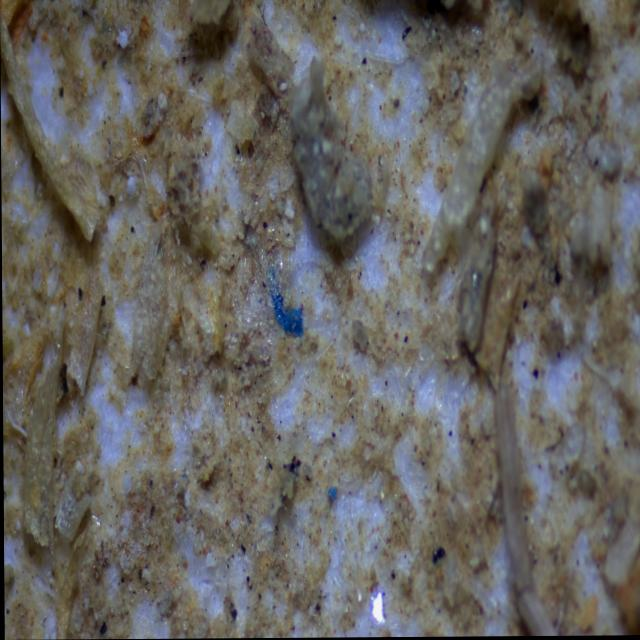microplastic: (248, 255, 319, 346), (324, 480, 344, 500)
